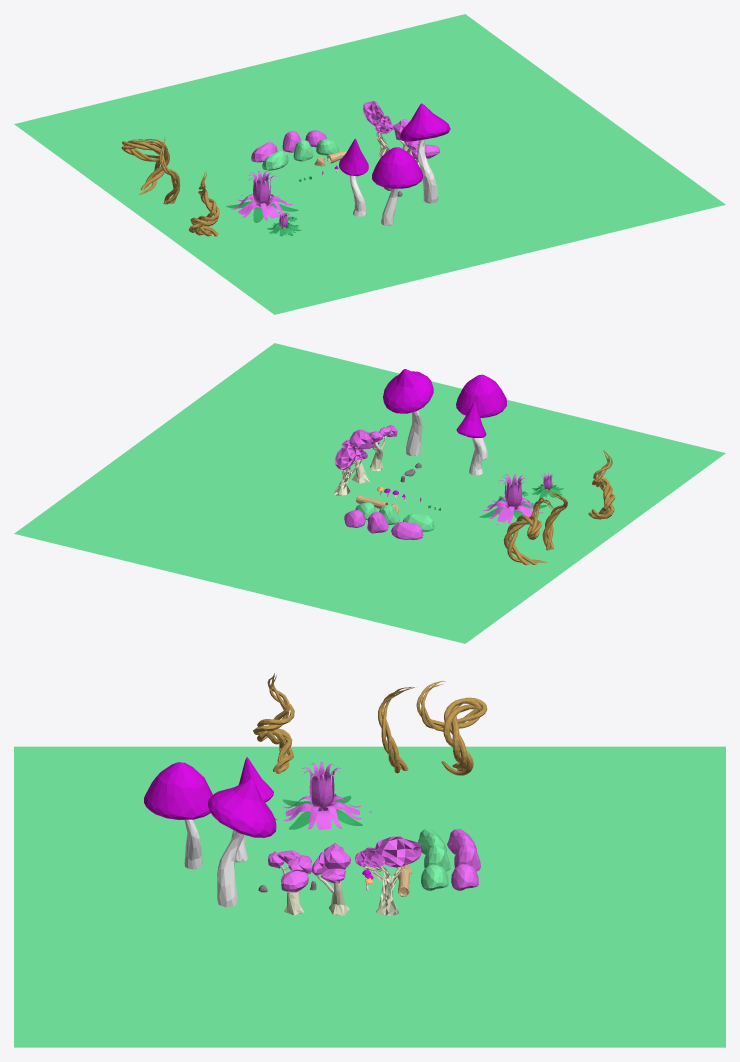
Rendered from AssetiRRIMagic 1.fbx.
3 views of the same model, one above another, from view 1: azimuth 30°, elevation 25°; view 2: azimuth 150°, elevation 25°; view 3: azimuth 270°, elevation 25° (orthographic). The views are drawn at different scales.
Visible parts, largest first — view 1: Plane_1, Gljiva2_1, Gljiva3_1, CvijetVelik, Korijen2, Gljiva1_1, Korijen3, Drvo1; view 2: Plane_1, Gljiva3_1, Gljiva2_1, CvijetVelik, Korijen2, Gljiva1_1, Drvo1, Korijen3, Drvo2, Dvro3, Korijen1, Sphere_1; view 3: Plane_1, Gljiva3_1, Gljiva2_1, CvijetVelik, Drvo1, Korijen2, Korijen3, Dvro3, Drvo2, Korijen1, Gljiva1_1, Sphere_2 (+1 smaller).
Boxes of the visible parts, left/top/right/bottom form: Plane_1: left=14, top=14, right=725, bottom=314; Gljiva2_1: left=372, top=147, right=422, bottom=225; Gljiva3_1: left=400, top=103, right=450, bottom=203; CvijetVelik: left=226, top=171, right=298, bottom=222; Korijen2: left=121, top=138, right=169, bottom=194; Gljiva1_1: left=339, top=138, right=368, bottom=216; Korijen3: left=188, top=171, right=219, bottom=236; Drvo1: left=363, top=101, right=393, bottom=156; Plane_1: left=14, top=343, right=725, bottom=643; Gljiva3_1: left=383, top=369, right=433, bottom=456; Gljiva2_1: left=456, top=374, right=506, bottom=460; CvijetVelik: left=479, top=474, right=547, bottom=524; Korijen2: left=503, top=497, right=554, bottom=565; Gljiva1_1: left=456, top=401, right=486, bottom=475; Drvo1: left=334, top=445, right=367, bottom=495; Korijen3: left=588, top=449, right=614, bottom=519; Drvo2: left=342, top=429, right=371, bottom=483; Dvro3: left=367, top=425, right=397, bottom=471; Korijen1: left=541, top=488, right=567, bottom=550; Sphere_1: left=391, top=522, right=423, bottom=539; Plane_1: left=14, top=746, right=725, bottom=1047; Gljiva3_1: left=208, top=779, right=276, bottom=907; Gljiva2_1: left=144, top=762, right=212, bottom=869; CvijetVelik: left=282, top=762, right=371, bottom=829; Drvo1: left=354, top=836, right=421, bottom=915; Korijen2: left=416, top=680, right=487, bottom=775; Korijen3: left=253, top=673, right=294, bottom=773; Dvro3: left=268, top=850, right=312, bottom=915; Drvo2: left=312, top=843, right=350, bottom=915; Korijen1: left=378, top=687, right=414, bottom=773; Gljiva1_1: left=231, top=757, right=273, bottom=862; Sphere_2: left=421, top=864, right=448, bottom=890.
Bounding box in the file's own units: 5056 × 1028 × 5056.
